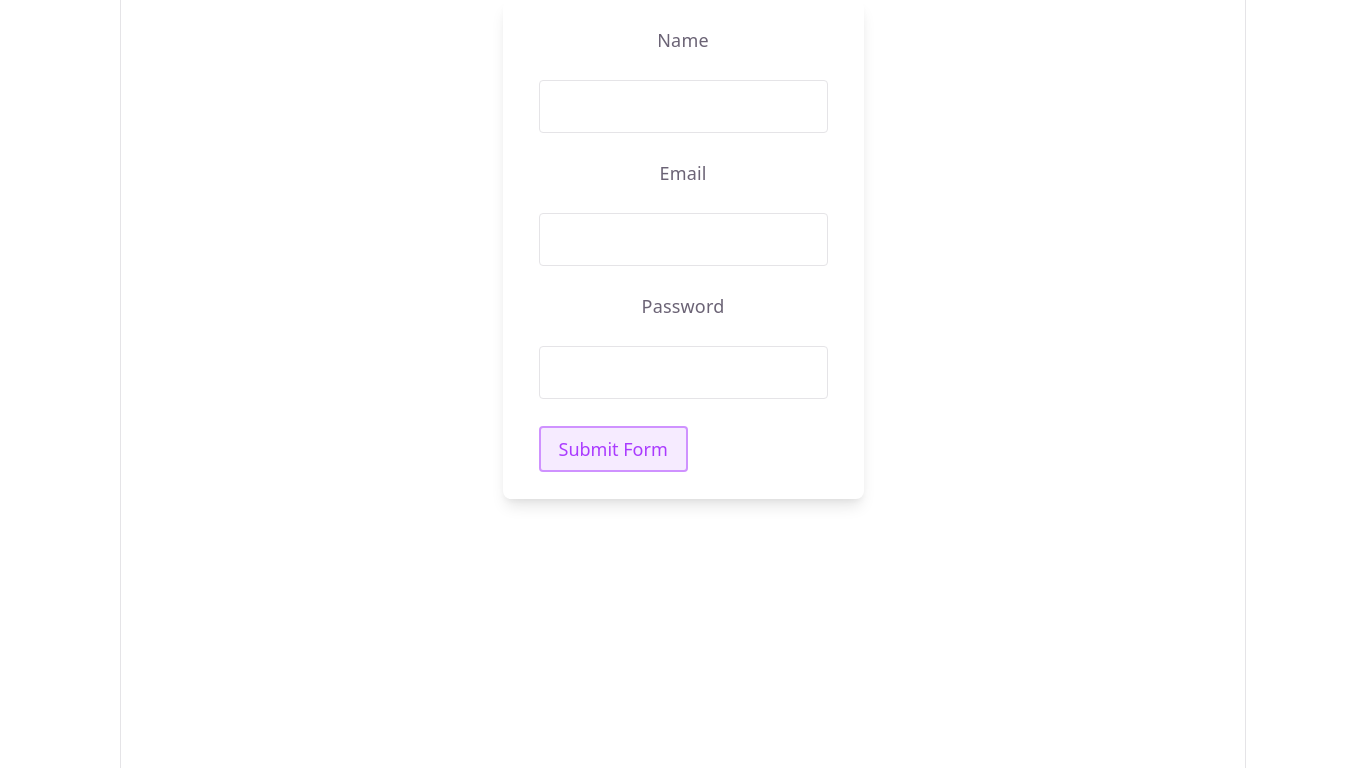
Test: SignupFormPractice › shows validation errors for short password
The width and height of the screenshot is (1366, 768).
In the field labelled "Name": (683,107) [538,80,828,133], type "Tom"
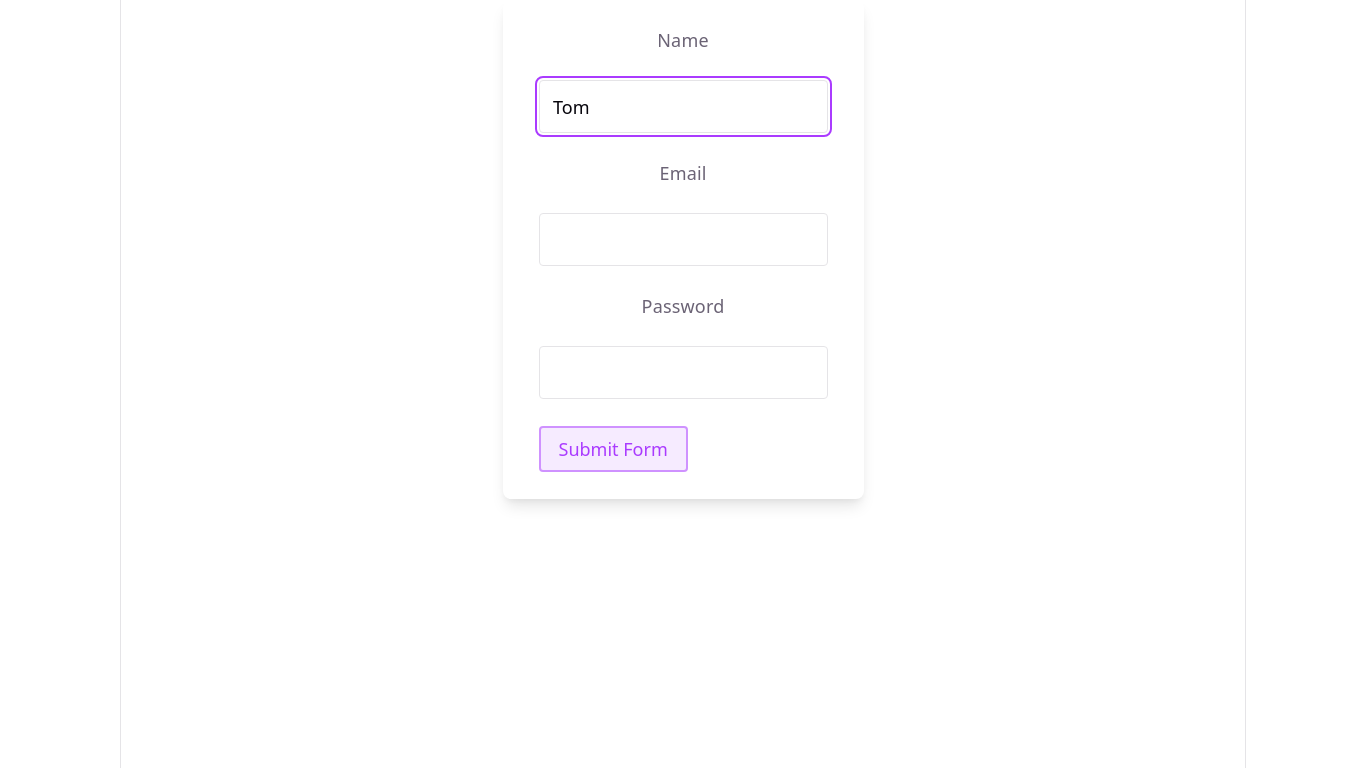
In the field labelled "Email": (683,240) [538,213,828,266], type "Tom@test.com"
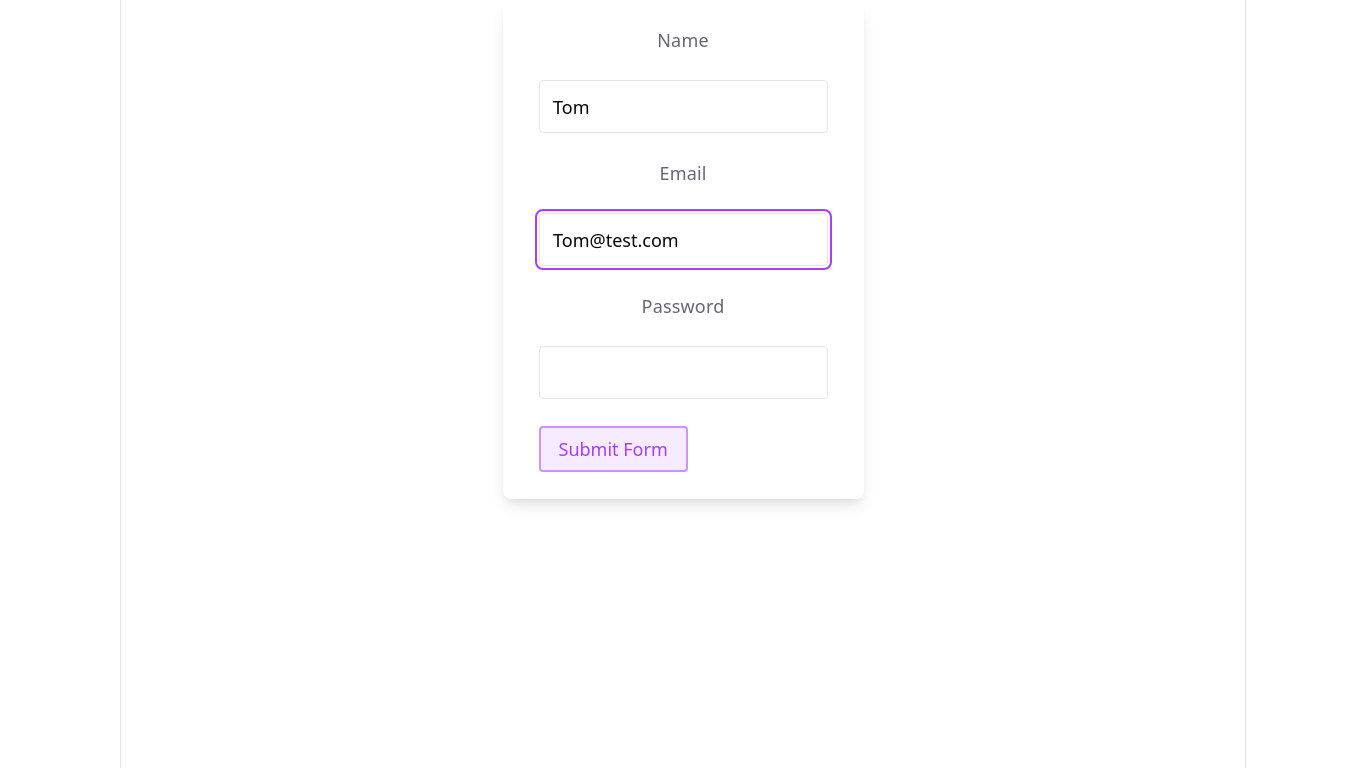
In the password field labelled "Password": (683,373) [538,346,828,399], type "test"
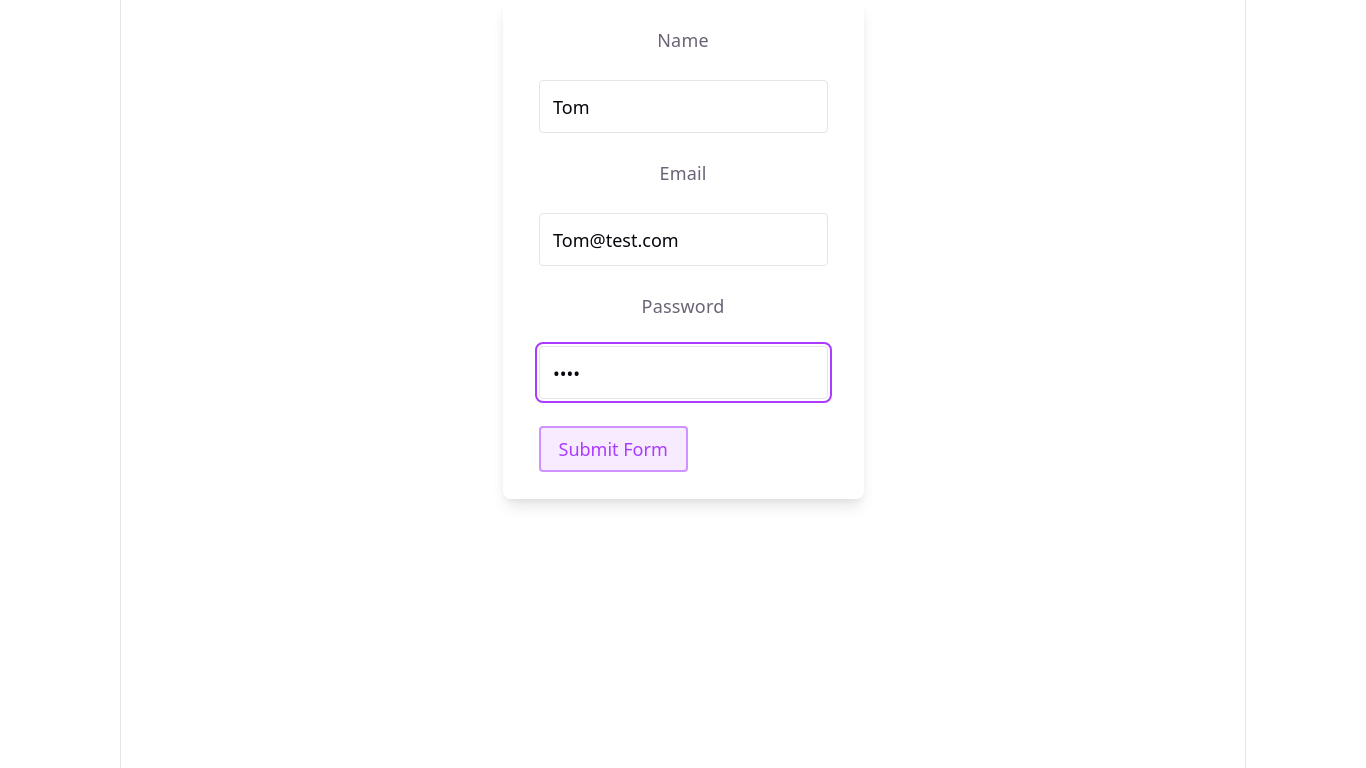
Click the button "Submit Form": (613,449) [538,426,688,472]
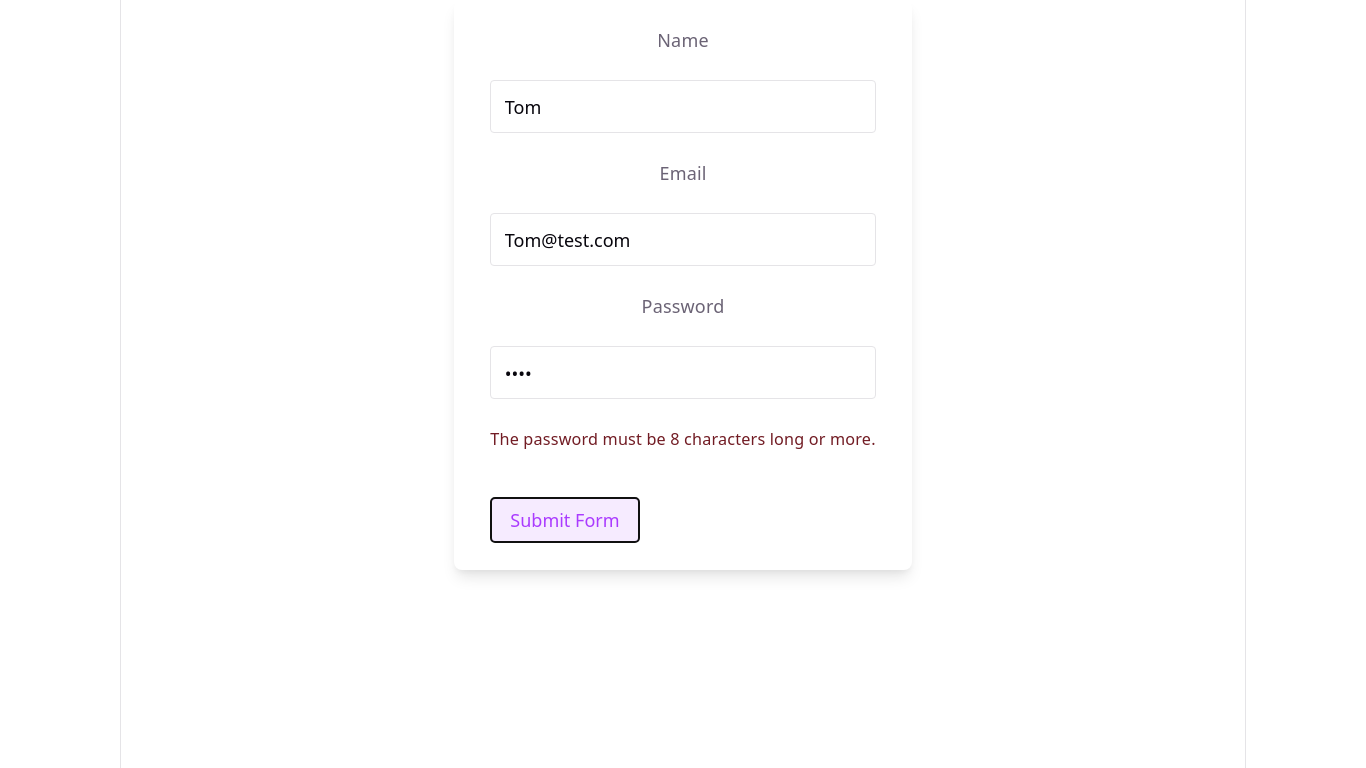
Expected: the text "The password must be 8 characters long or more." is shown, [490,426,876,452]
